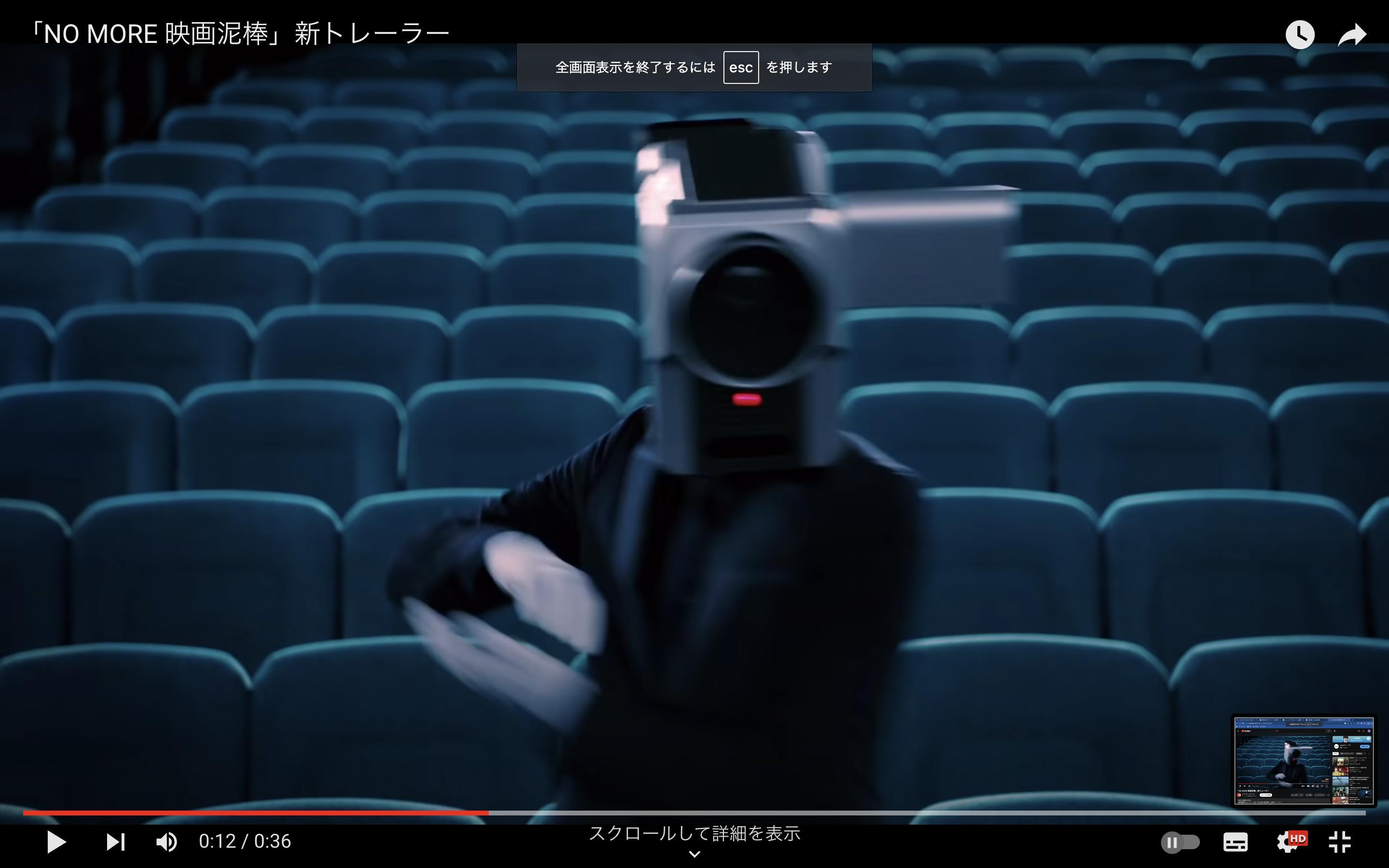no more kid: (606, 105, 1028, 497)
